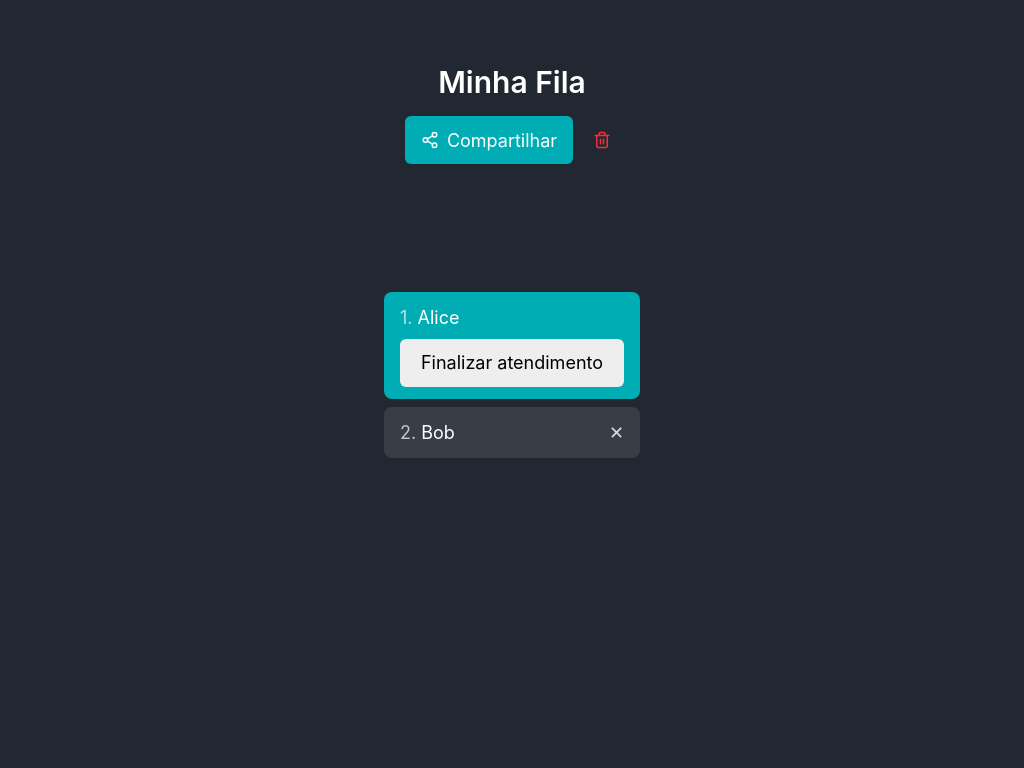
Test: HostSession › cancelling the confirmation does not remove the user
Click the button named "Remover Bob". click: (612, 432)
box: [601,415,624,450]
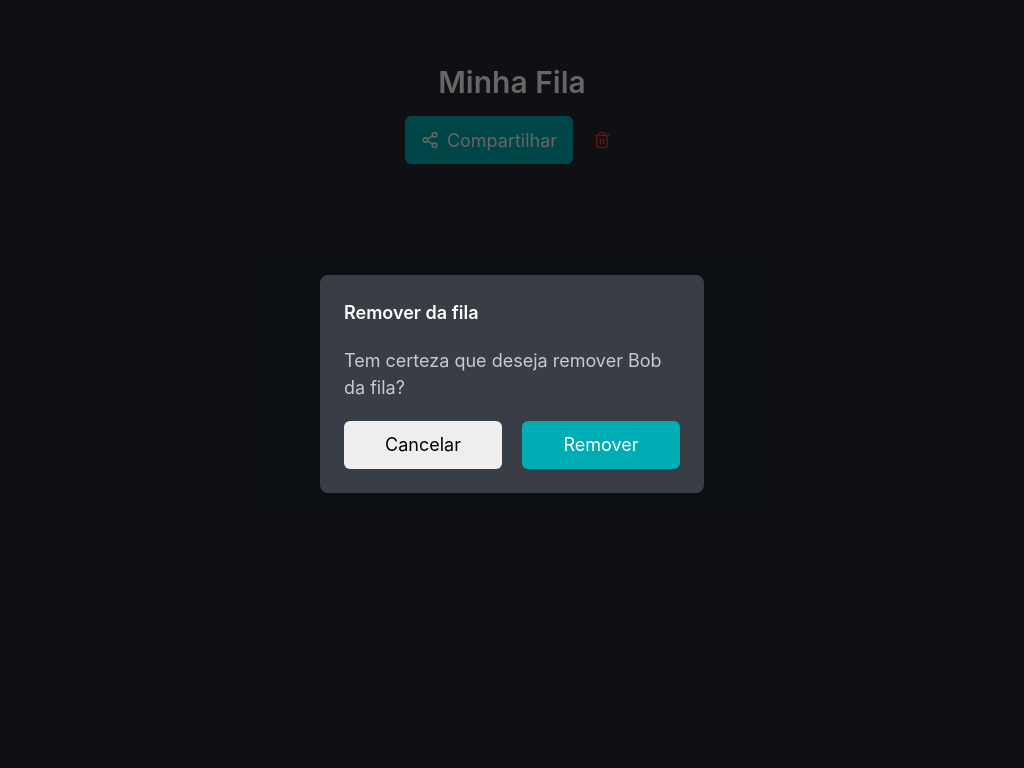
Click the button "Cancelar". click: (423, 445)
box: [344,421,502,469]
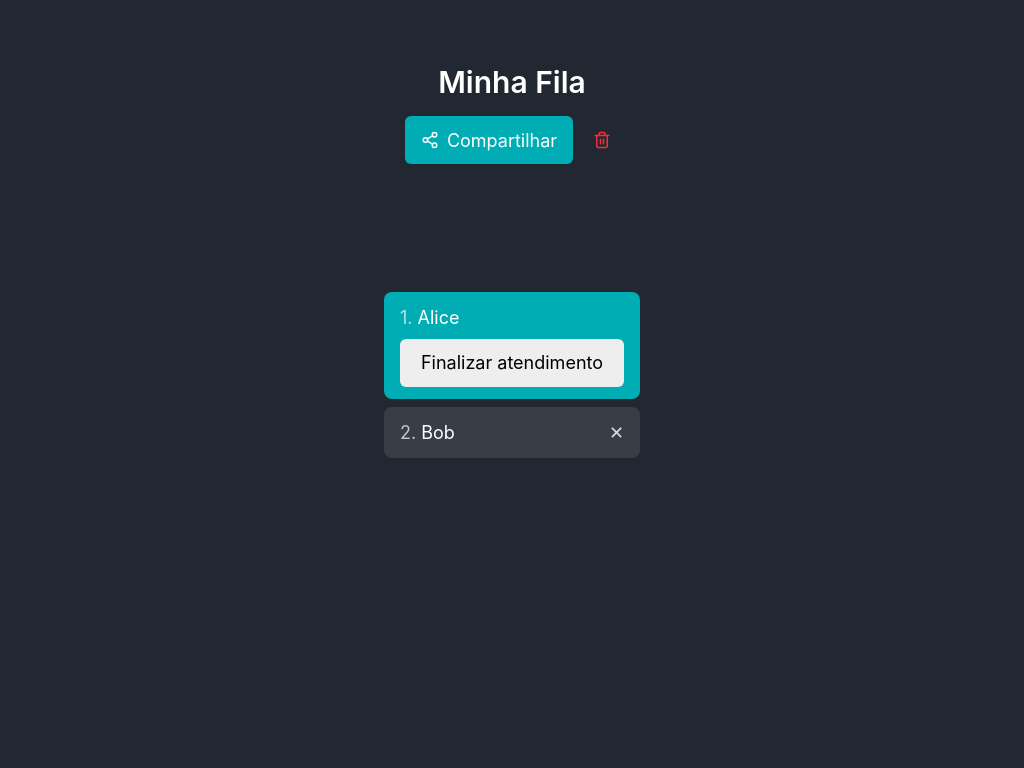
expect the dialog is gone: met
